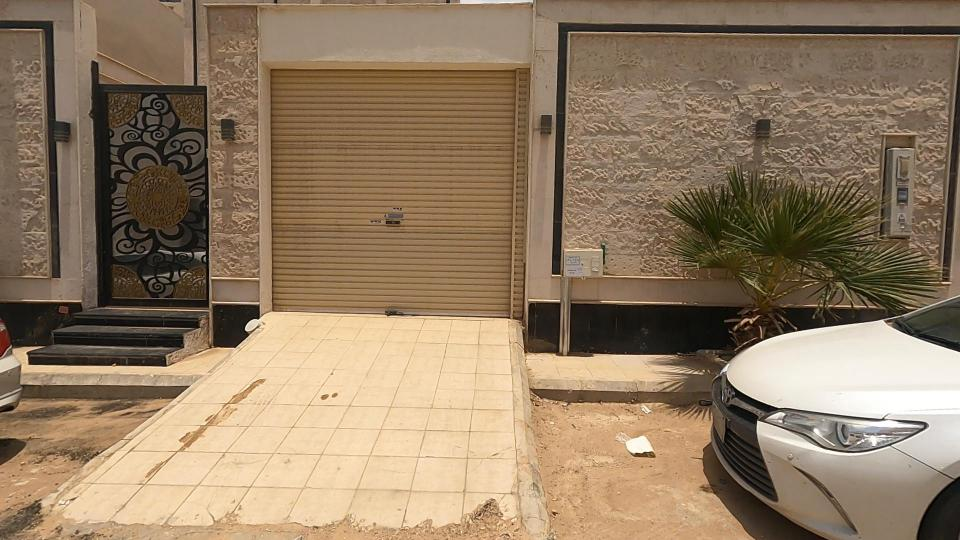GARBAGE: (566, 408, 700, 497)
